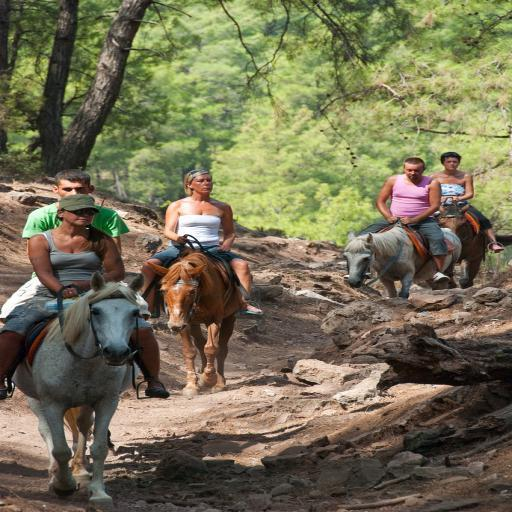horse: (10, 268, 138, 511), (144, 248, 248, 398), (339, 224, 465, 300), (434, 202, 494, 287)
